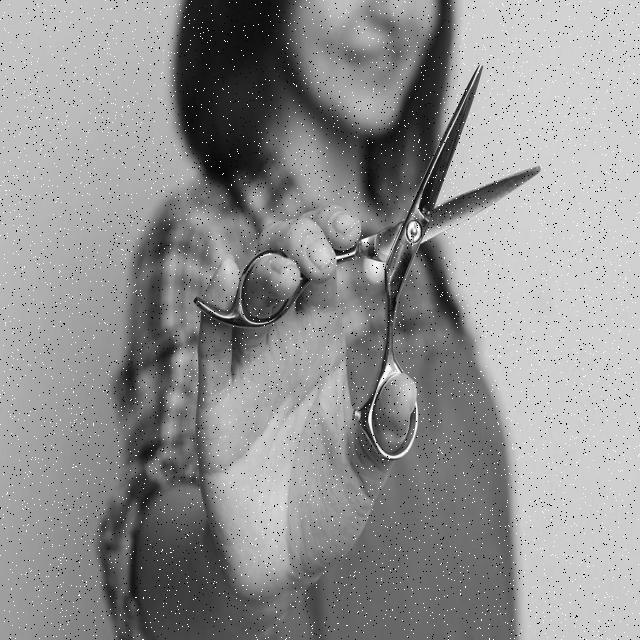scissors: (190, 57, 544, 465)
